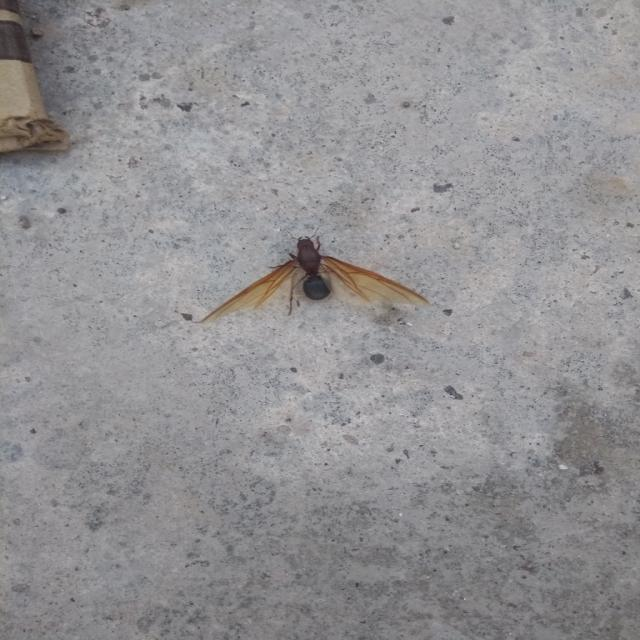Alive-Female-Alate: (199, 227, 431, 325)
